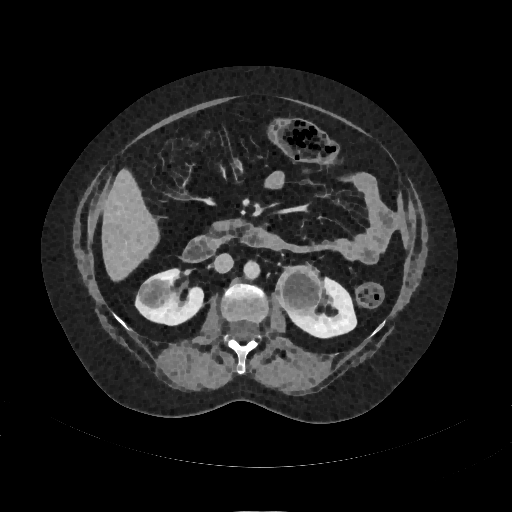Lesion: (136, 278, 174, 312)
